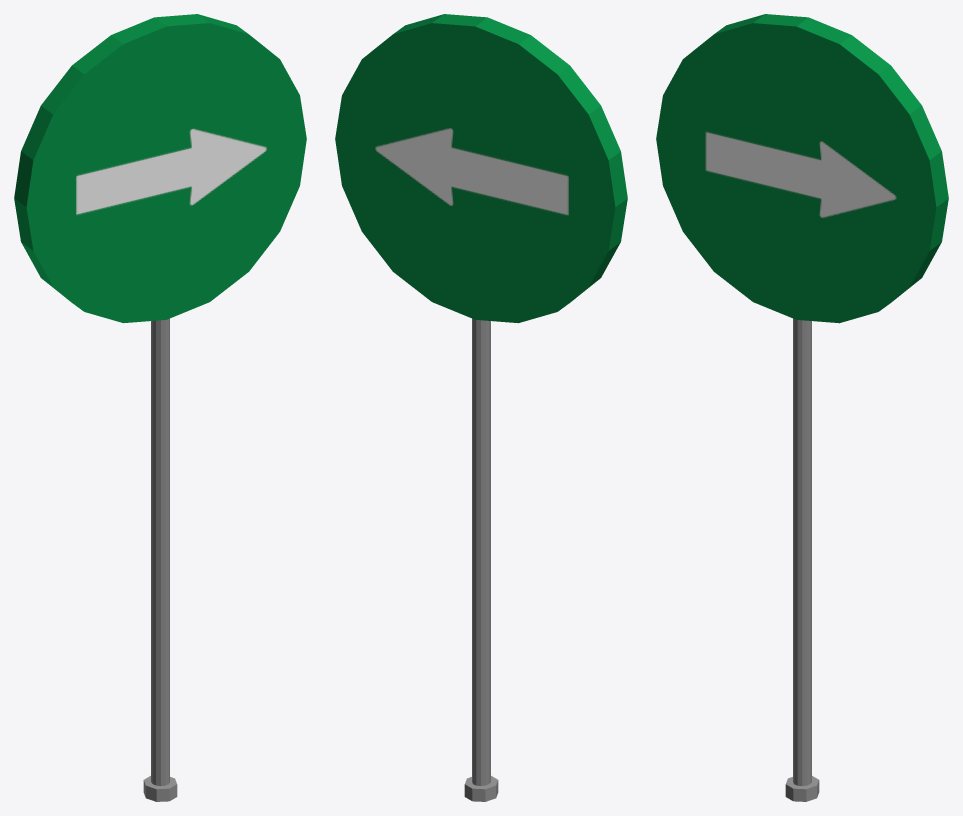
The model's file is D1_TRAFFIC_SIGN_5.fbx.
The picture shows the model from 3 angles, left to right: view 1: azimuth 30°, elevation 25°; view 2: azimuth 150°, elevation 25°; view 3: azimuth 330°, elevation 25°; orthographic projection.
Parts seen in each view (by area): view 1: D1_SIGNAGE_EXIT; view 2: D1_SIGNAGE_EXIT; view 3: D1_SIGNAGE_EXIT.
Part boxes in pixels (box(x1,y1,x2,y2)): D1_SIGNAGE_EXIT: box(14, 14, 306, 801); D1_SIGNAGE_EXIT: box(335, 14, 627, 801); D1_SIGNAGE_EXIT: box(656, 14, 948, 801).
Bounding box in the file's own units: 106 × 279 × 11.91.
Materials: 2 (1 with a texture image).
